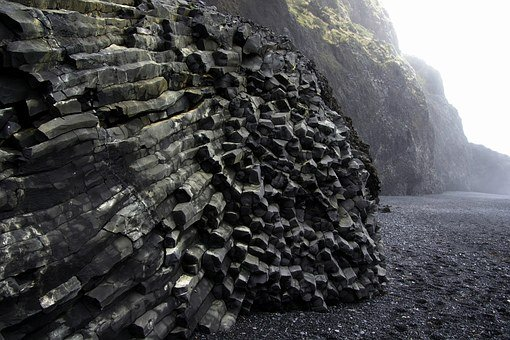stone: (5, 1, 441, 300)
